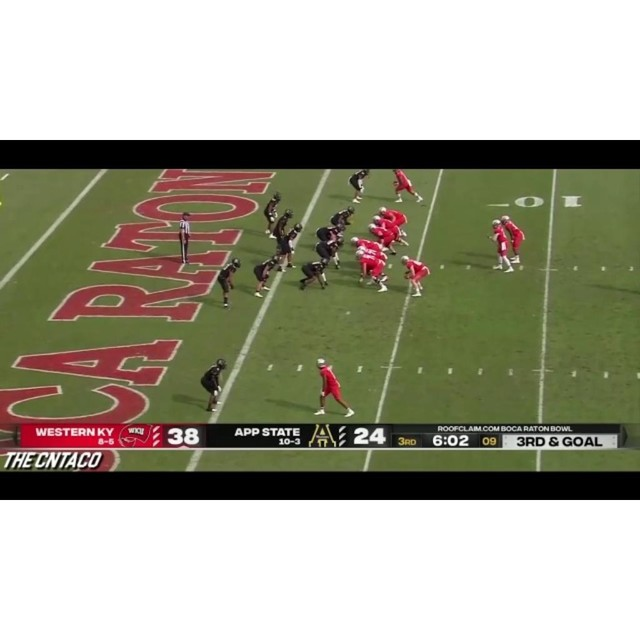american-football-player: (314, 357, 355, 417), (354, 251, 390, 292), (200, 358, 227, 412), (487, 219, 514, 272), (500, 214, 527, 264), (217, 258, 241, 310), (253, 254, 282, 297), (401, 255, 430, 297), (278, 223, 303, 270), (377, 206, 408, 243), (392, 169, 424, 204), (368, 223, 398, 256), (299, 258, 329, 291), (314, 238, 344, 270), (271, 209, 294, 249), (263, 192, 282, 236), (348, 169, 369, 203), (351, 236, 383, 256), (315, 223, 344, 245), (330, 206, 356, 229)
referee: (177, 211, 192, 264)
